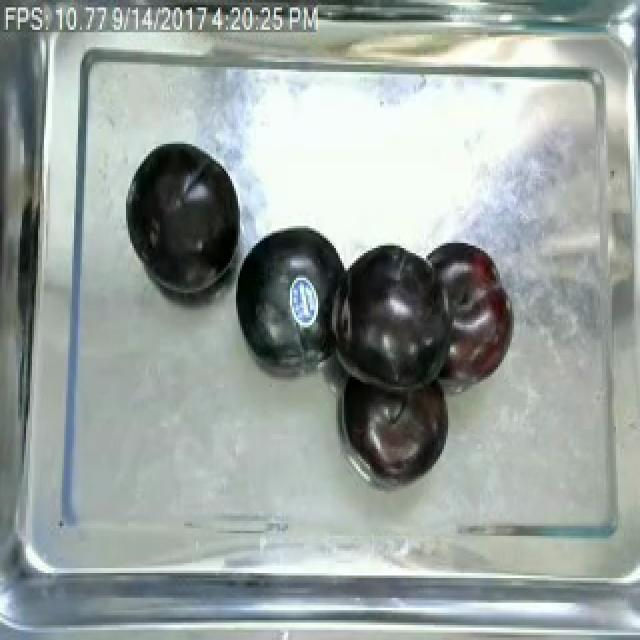Fruit: (122, 134, 250, 300), (224, 216, 346, 372), (340, 236, 456, 392), (428, 236, 520, 394), (340, 365, 454, 481)
